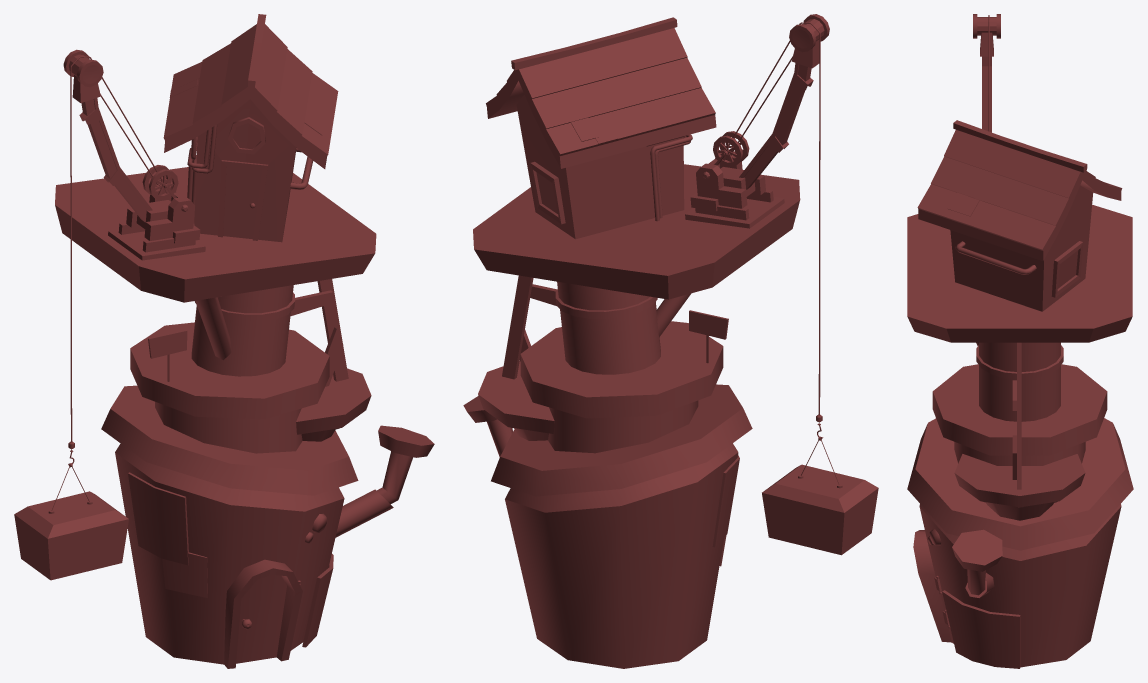
Rendered from Village_Building_low.fbx.
The picture shows the model from 3 angles, left to right: view 1: azimuth 30°, elevation 25°; view 2: azimuth 150°, elevation 25°; view 3: azimuth 270°, elevation 25°; orthographic projection. The views are drawn at different scales.
Visible parts, largest first — view 1: Village_Building1_low, Village_Building5_low, Village_Building3_low, Village_Building4_low, Village_Building2_low; view 2: Village_Building1_low, Village_Building5_low, Village_Building3_low, Village_Building4_low, Village_Building2_low; view 3: Village_Building1_low, Village_Building5_low, Village_Building3_low, Village_Building4_low, Village_Building2_low.
Part boxes in pixels (x1,y1,x2,y2): Village_Building1_low: (14,14,358,664); Village_Building5_low: (51,99,434,668); Village_Building3_low: (48,75,393,585); Village_Building4_low: (118,24,338,628); Village_Building2_low: (63,49,205,260); Village_Building1_low: (491,17,878,668); Village_Building5_low: (463,64,839,566); Village_Building3_low: (473,39,842,488); Village_Building4_low: (486,28,773,220); Village_Building2_low: (590,14,829,228); Village_Building1_low: (907,15,1133,667); Village_Building5_low: (913,185,1107,668); Village_Building3_low: (907,32,1132,625); Village_Building4_low: (917,130,1122,260); Village_Building2_low: (973,14,1000,38).
Bounding box in the file's own units: 98.18 × 150 × 56.01.
